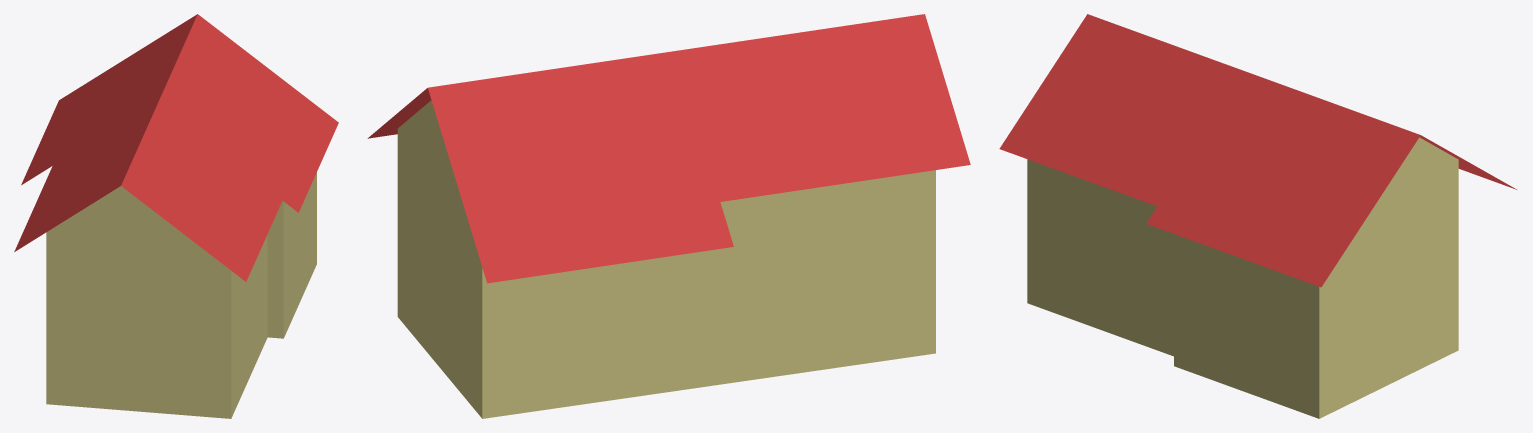
3 renders of one model, left to right at view 1: azimuth 30°, elevation 25°; view 2: azimuth 150°, elevation 25°; view 3: azimuth 270°, elevation 25°, orthographic. The views are drawn at different scales.
Bounding box in the file's own units: 24.68 × 26.16 × 13.72.
